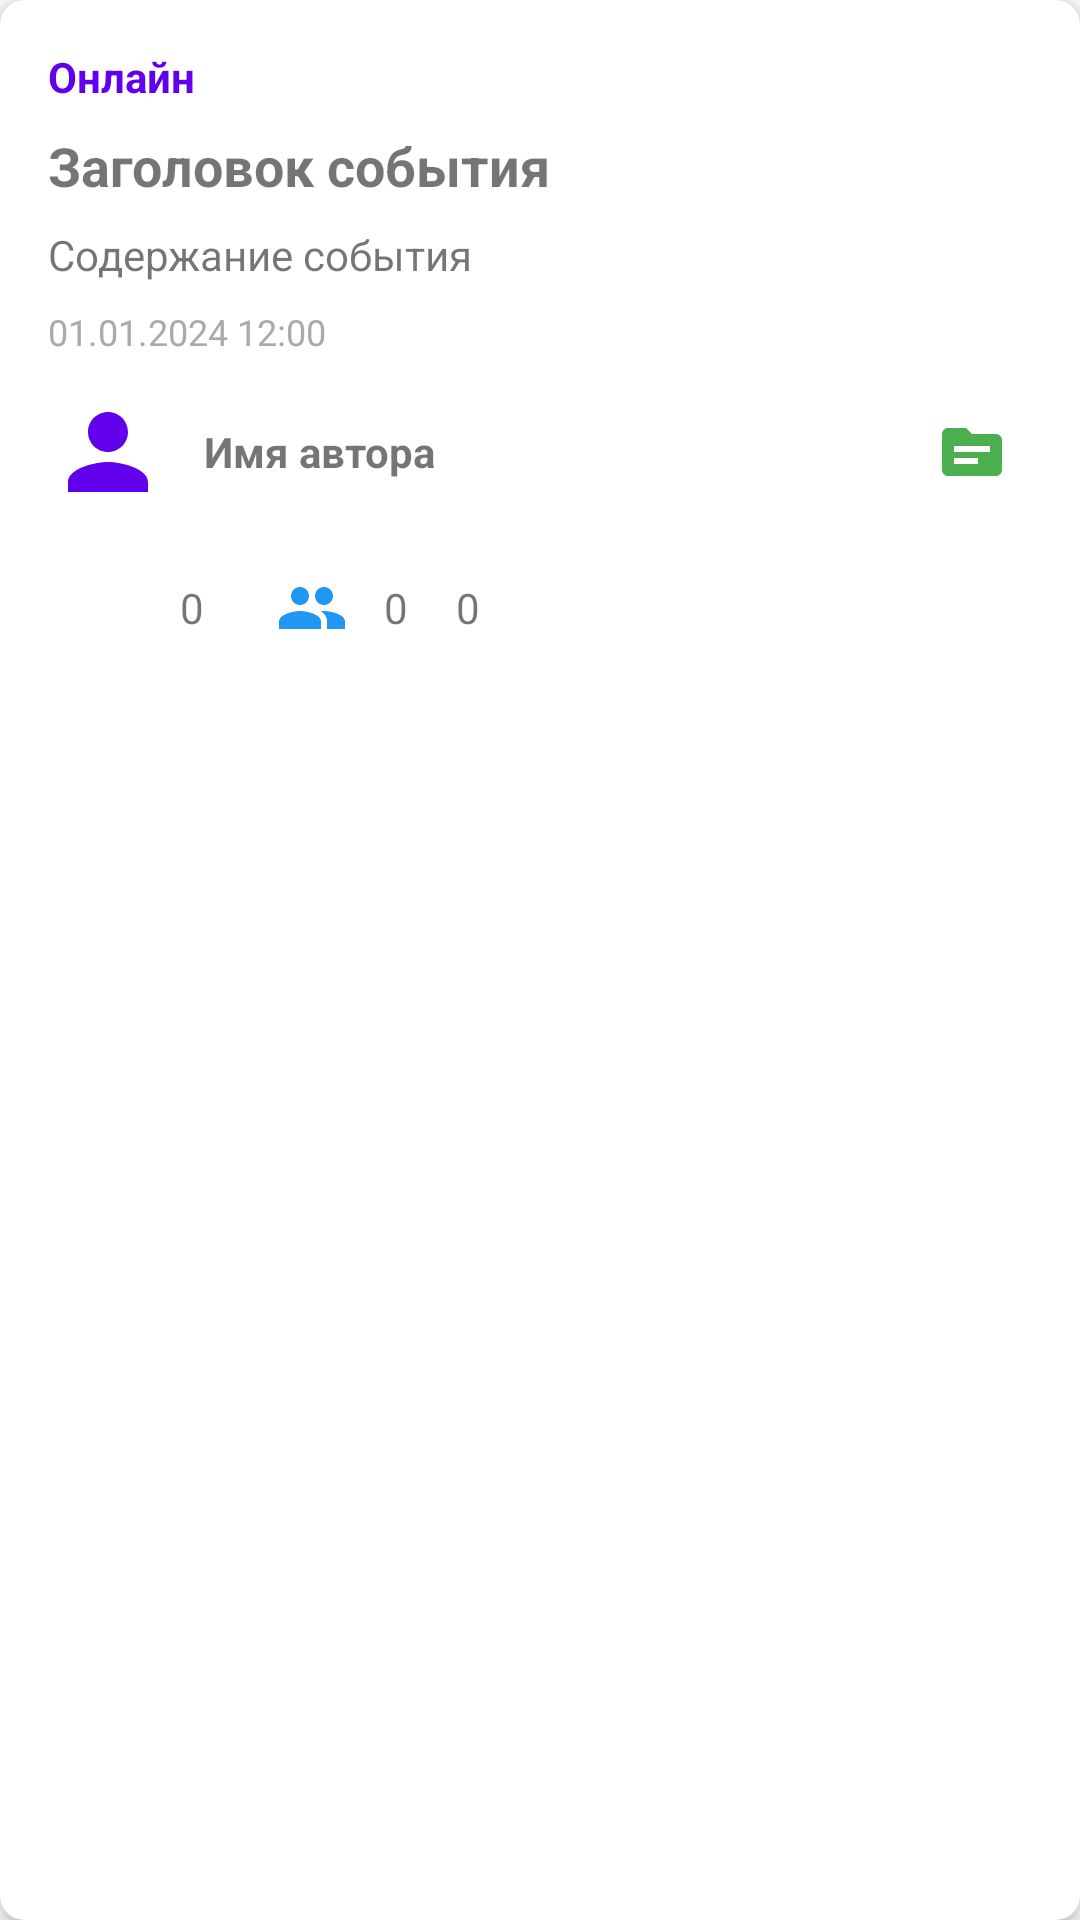

Screen size 1080px x 1920px. Icon name, then its box in pixels as (x1, y1, x2, y2):
Participants: (279, 587, 345, 629)
